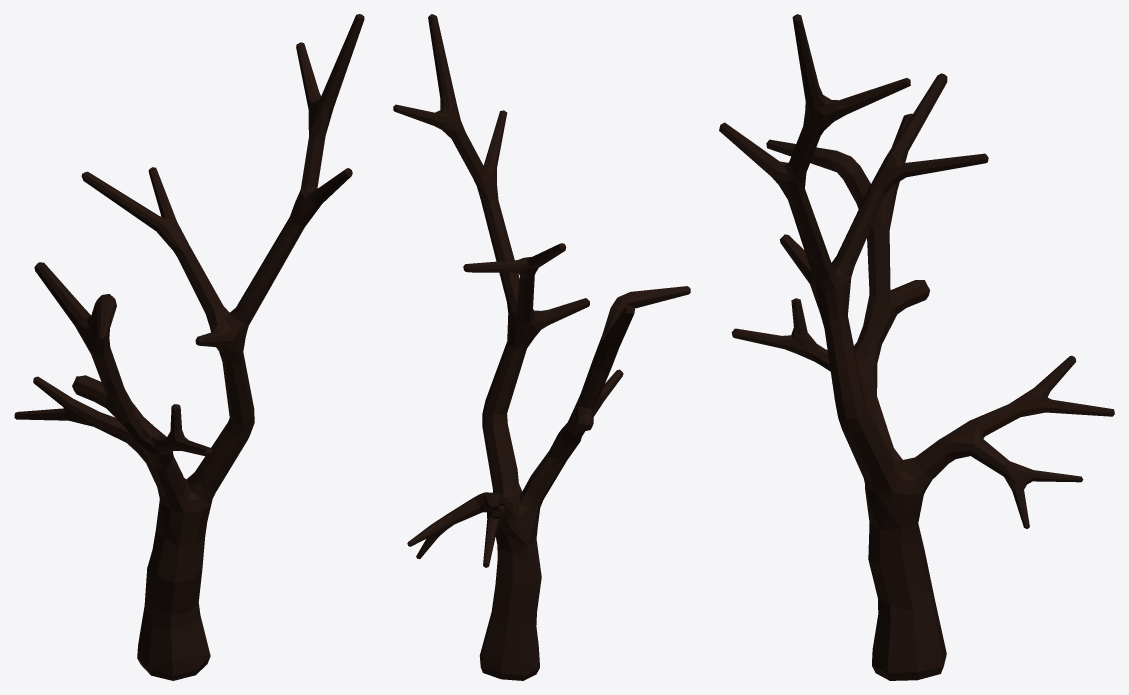
Rendered from SM_Tree09.fbx.
3 renders of one model, left to right at view 1: azimuth 30°, elevation 25°; view 2: azimuth 150°, elevation 25°; view 3: azimuth 270°, elevation 25°, orthographic. The views are drawn at different scales.
Visible parts, largest first — view 1: Tree08; view 2: Tree08; view 3: Tree08.
Boxes of the visible parts, <box> form: Tree08: <box>14,14,364,680</box>; Tree08: <box>393,14,690,680</box>; Tree08: <box>719,14,1114,680</box>.
Bounding box in the file's own units: 223 × 505 × 248.
